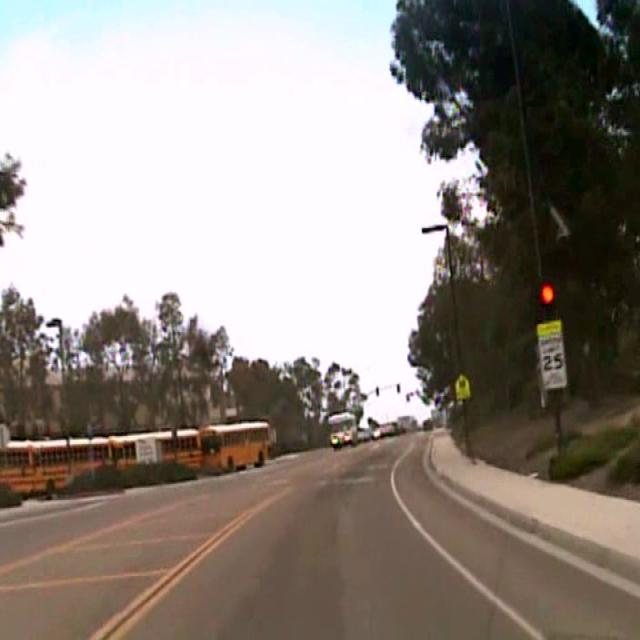speedLimit25: (536, 319, 568, 389)
